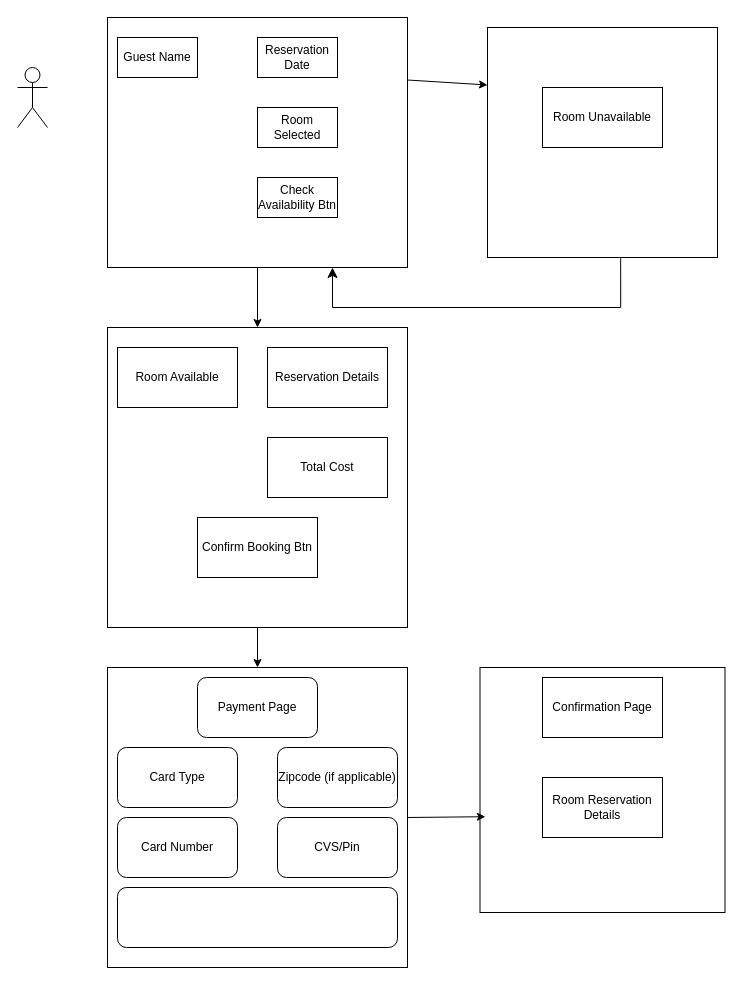
This 743x985 diagram has some shape labels left out. Each missing label, with the centre of its shape:
Actor: point (32, 97)
Process Btn: point (257, 917)
